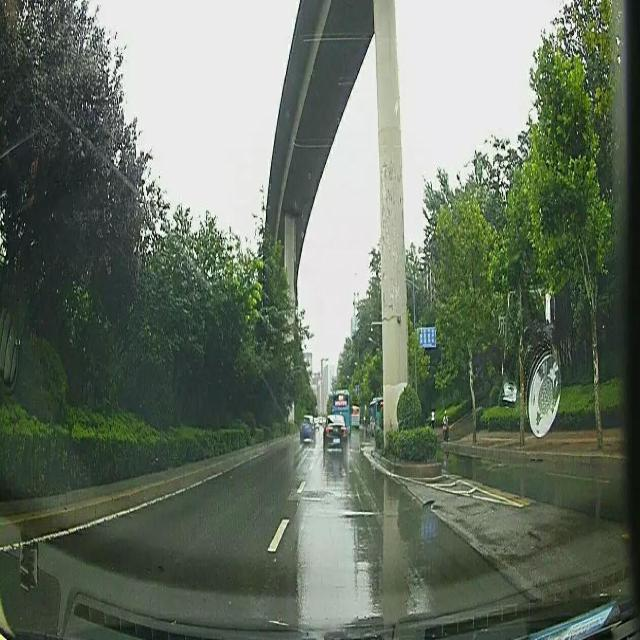car: (322, 414, 347, 457), (298, 413, 316, 443)
